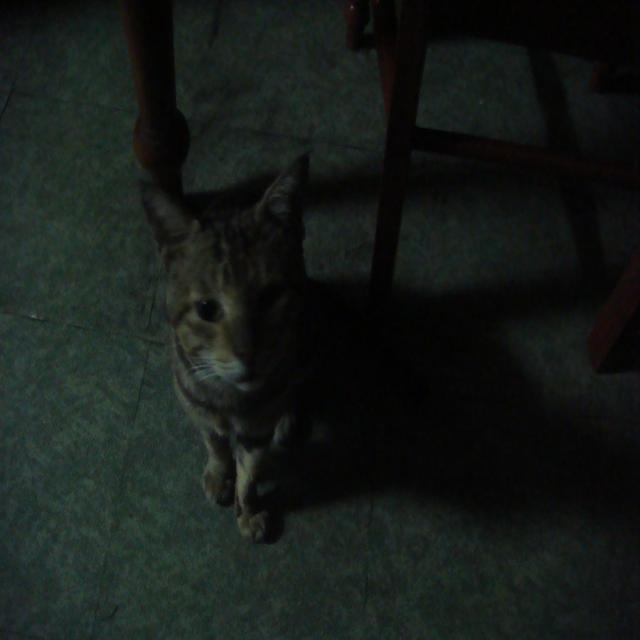Cat: (119, 142, 440, 570)
